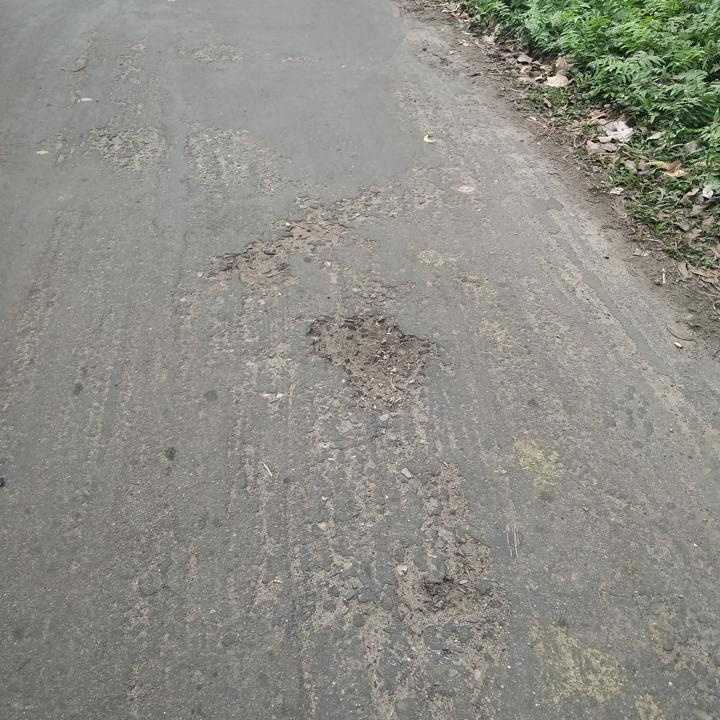pothole: (301, 302, 434, 405), (223, 201, 344, 287), (422, 575, 480, 618)
